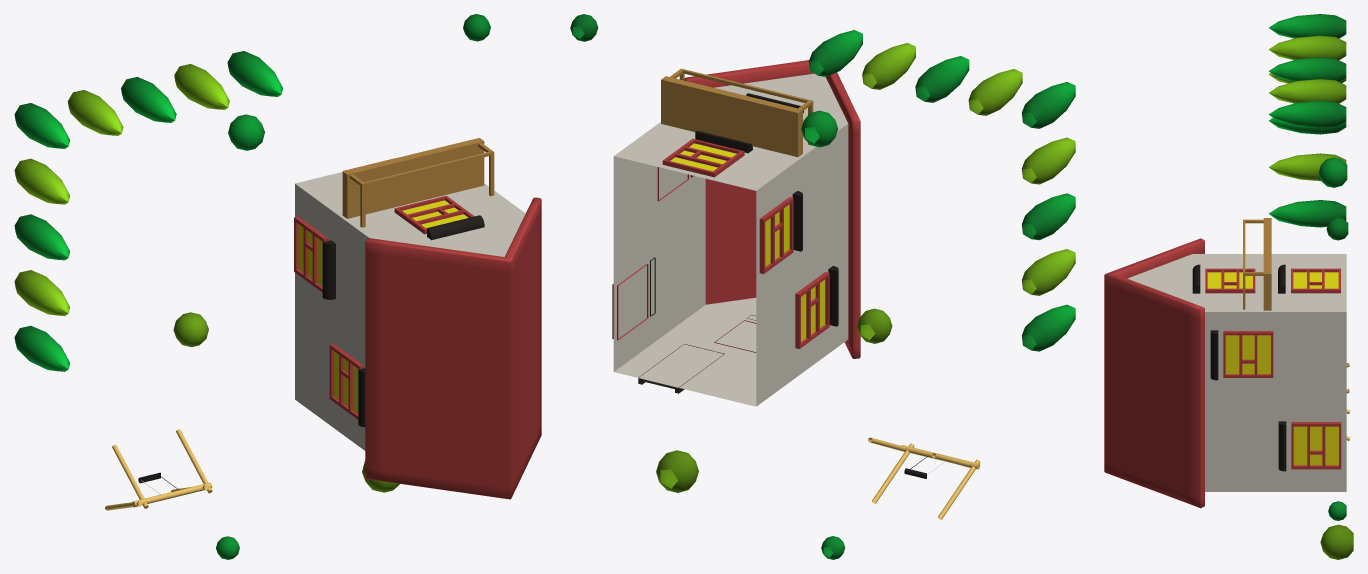
Rendered from Simple_House_03_02.fbx.
The picture shows the model from 3 angles, left to right: view 1: azimuth 30°, elevation 25°; view 2: azimuth 150°, elevation 25°; view 3: azimuth 270°, elevation 25°; orthographic projection. The views are drawn at different scales.
Parts seen in each view (by area): view 1: Simple_House_03_02; view 2: Simple_House_03_02; view 3: Simple_House_03_02.
Part boxes in pixels (box(x1,y1,x2,y2)): Simple_House_03_02: box(14, 14, 541, 559); Simple_House_03_02: box(570, 14, 1075, 559); Simple_House_03_02: box(1104, 14, 1353, 559).
Bounding box in the file's own units: 179 × 182 × 97.21.
